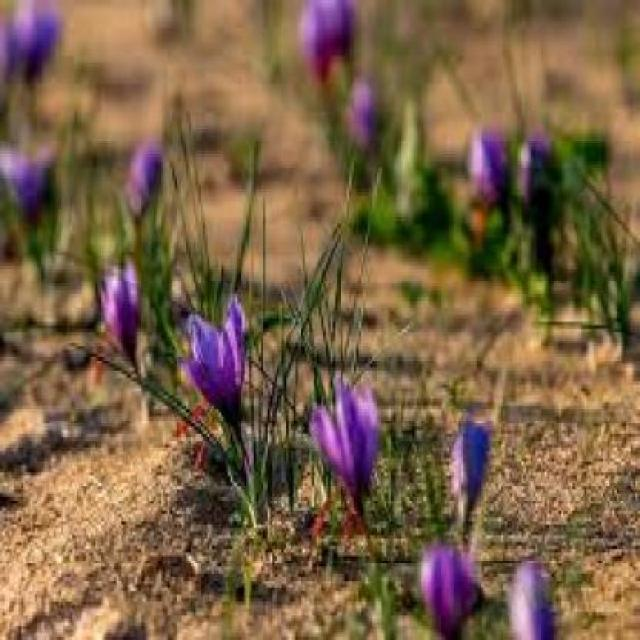Flower: (310, 379, 382, 510), (185, 298, 249, 432), (412, 528, 480, 638), (98, 257, 150, 372), (450, 402, 492, 516)
